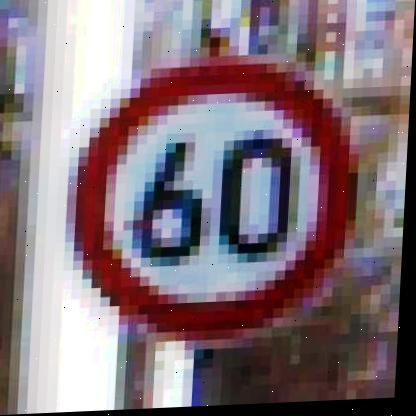Speed Limit -60-: (54, 53, 374, 358)
